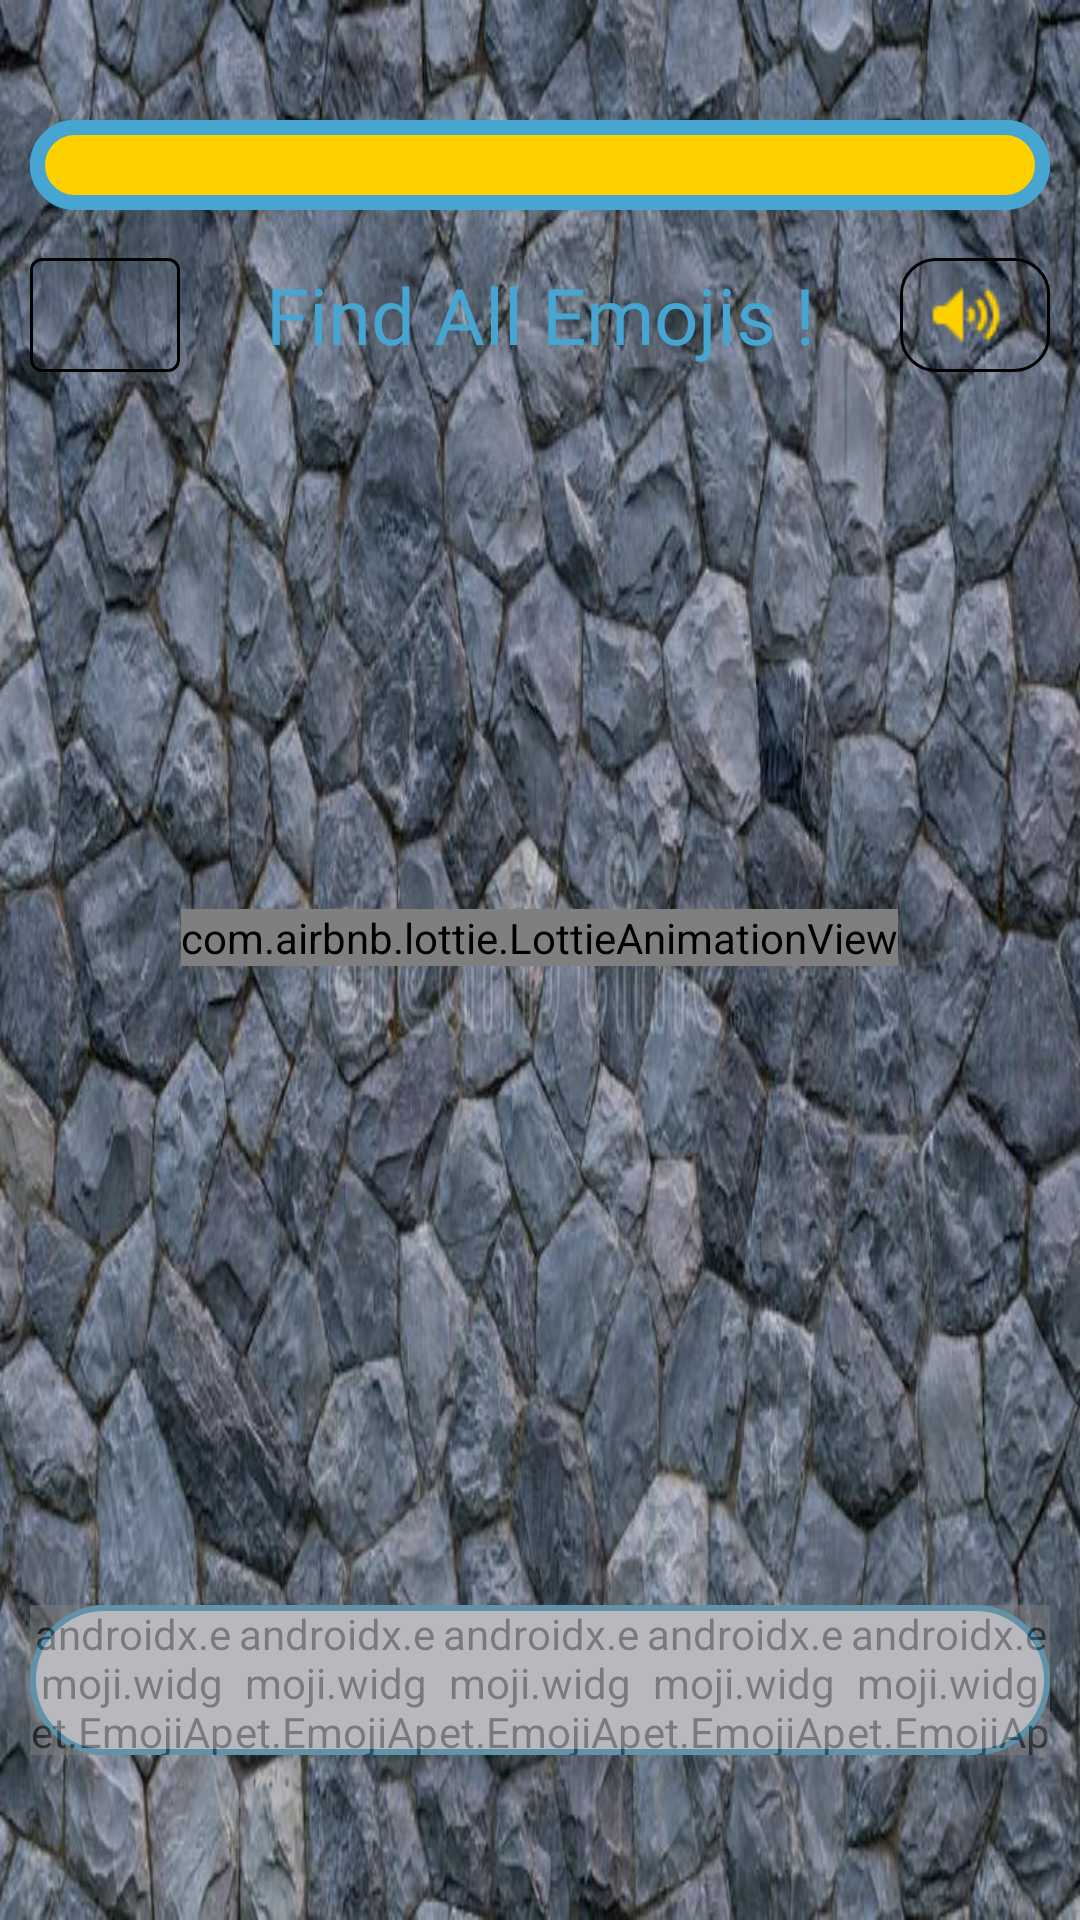

Where icons sit on this 1080x1920 app screen, as (x1, y1, x2, y2):
audio: (900, 240, 1050, 390)
